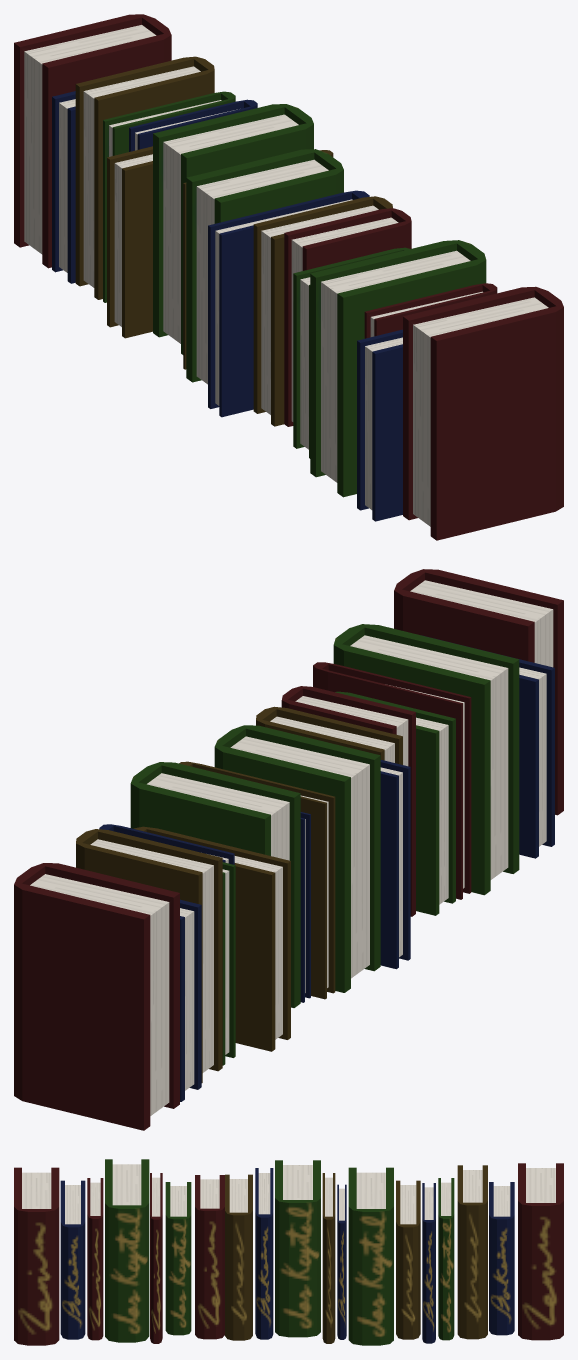
The model's file is Books.fbx.
3 renders of one model, top to bottom at view 1: azimuth 30°, elevation 25°; view 2: azimuth 150°, elevation 25°; view 3: azimuth 270°, elevation 25°, orthographic. The views are drawn at different scales.
Parts seen in each view (by area): view 1: Cube.015; view 2: Cube.015; view 3: Cube.015.
Part boxes in pixels (x1=…): Cube.015: x1=14, y1=14, x2=563, y2=540; Cube.015: x1=14, y1=569, x2=563, y2=1130; Cube.015: x1=14, y1=1159, x2=563, y2=1345.
Size of the model in its own units: 84.63 by 95.43 by 354.
